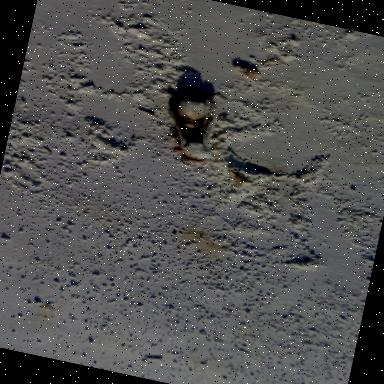pbw: (216, 162, 256, 192), (223, 60, 265, 85), (141, 351, 164, 364)
